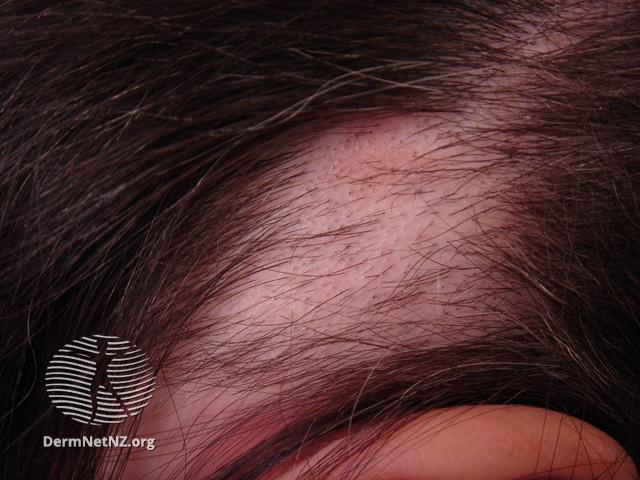Alopecia Areata: (149, 99, 515, 364)
